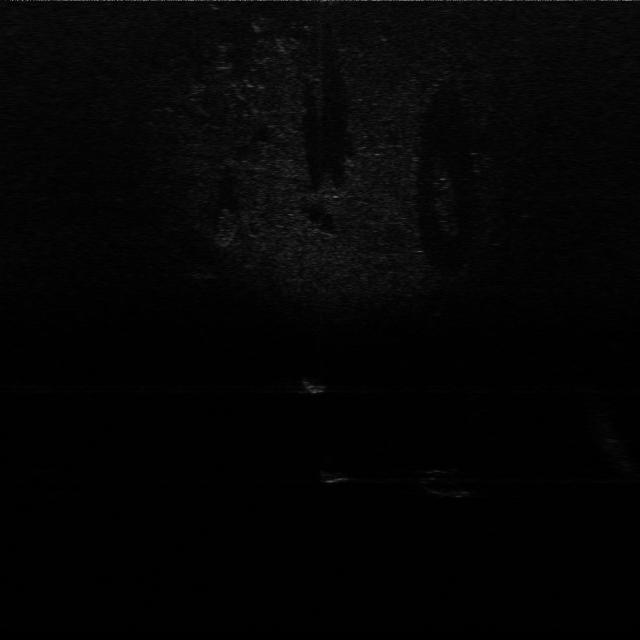cube: (318, 464, 352, 488)
square cage: (297, 369, 332, 395)
tyre: (422, 467, 474, 502)
